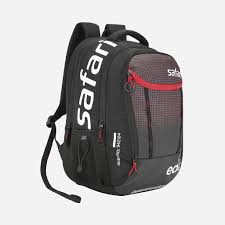backpack: (39, 21, 183, 203)
